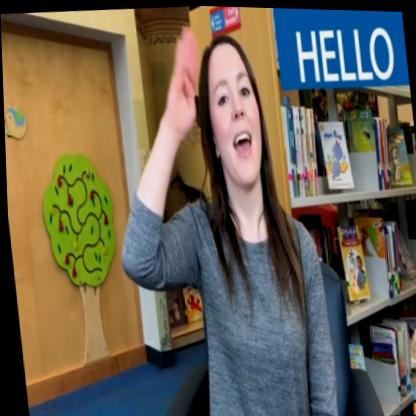Hello: (147, 3, 298, 293)
